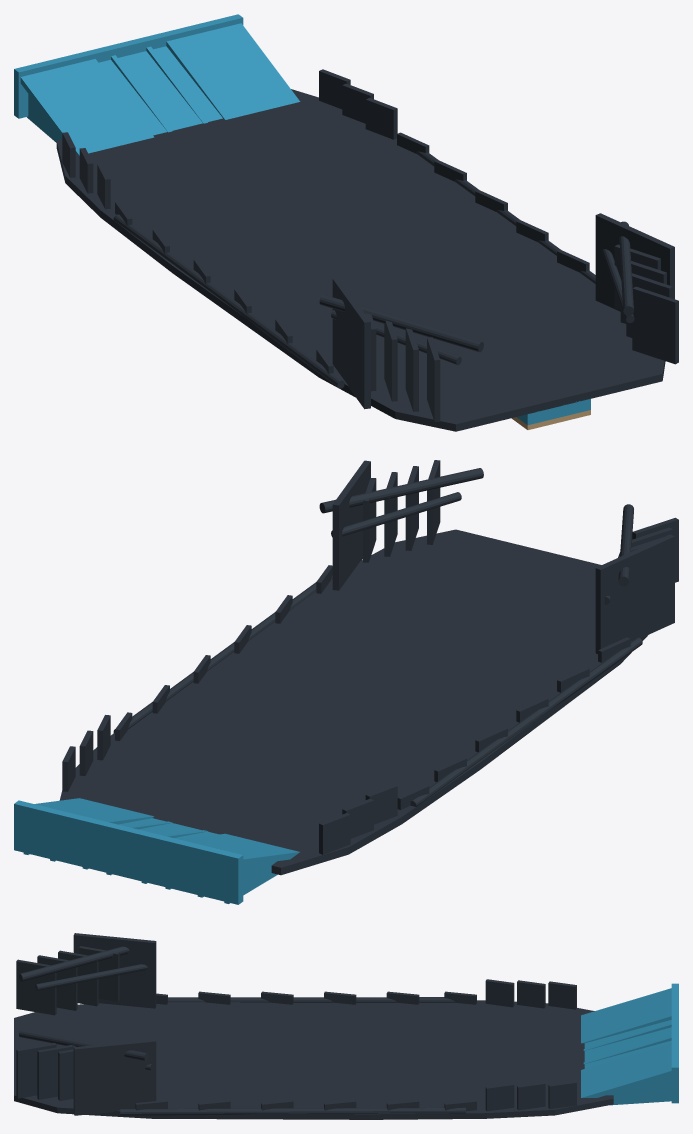
Rendered from W11_2020_FLAT_STEPPED_FLOOR_ONLY.glb.
3 views of the same model, one above another, from view 1: azimuth 30°, elevation 25°; view 2: azimuth 150°, elevation 25°; view 3: azimuth 270°, elevation 25° (orthographic). The views are drawn at different scales.
Parts seen in each view (by area): view 1: 2020 step-plane floor, Short multi-channel rear diffuser, Floor bargeboards - four element Spa stack, Floor edge slots and three rear-tyre vanes, 2020 central reference plane; view 2: 2020 step-plane floor, Floor bargeboards - four element Spa stack, Short multi-channel rear diffuser, Floor edge slots and three rear-tyre vanes; view 3: 2020 step-plane floor, Floor bargeboards - four element Spa stack, Floor edge slots and three rear-tyre vanes, Short multi-channel rear diffuser.
Boxes of the visible parts, x1=… form: 2020 step-plane floor: x1=56, y1=89, x2=665, y2=431; Short multi-channel rear diffuser: x1=14, y1=14, x2=300, y2=155; Floor bargeboards - four element Spa stack: x1=319, y1=213, x2=678, y2=421; Floor edge slots and three rear-tyre vanes: x1=62, y1=69, x2=595, y2=388; 2020 central reference plane: x1=517, y1=398, x2=590, y2=425; 2020 step-plane floor: x1=59, y1=529, x2=647, y2=875; Floor bargeboards - four element Spa stack: x1=319, y1=460, x2=678, y2=653; Short multi-channel rear diffuser: x1=14, y1=798, x2=299, y2=904; Floor edge slots and three rear-tyre vanes: x1=62, y1=565, x2=642, y2=854; 2020 step-plane floor: x1=14, y1=1000, x2=613, y2=1119; Floor bargeboards - four element Spa stack: x1=16, y1=933, x2=156, y2=1115; Floor edge slots and three rear-tyre vanes: x1=120, y1=979, x2=576, y2=1115; Short multi-channel rear diffuser: x1=581, y1=983, x2=678, y2=1105.
Size of the model in its own units: 0.0526 by 0.0179 by 0.127.
